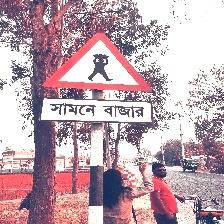Market-in-front: (40, 32, 155, 124)
